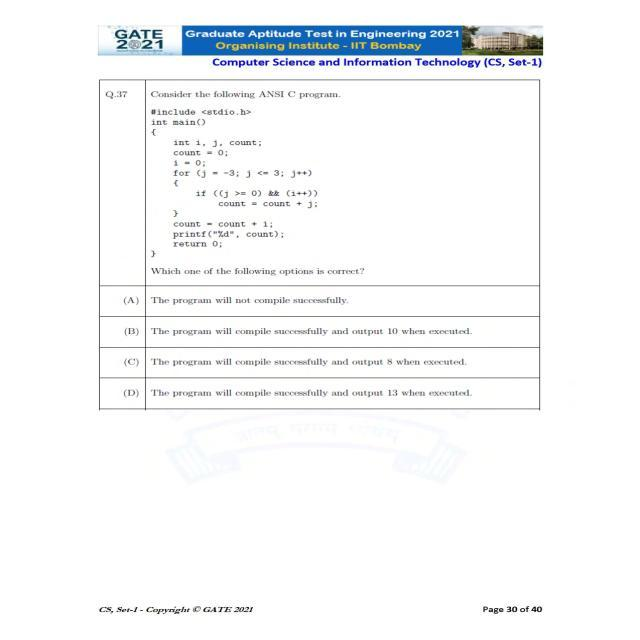Answer_Block: (94, 290, 541, 408)
Question_Answer_Block: (95, 80, 542, 408)
Question_Block: (94, 80, 546, 288)
Question_Paper_Area: (98, 78, 544, 408)
